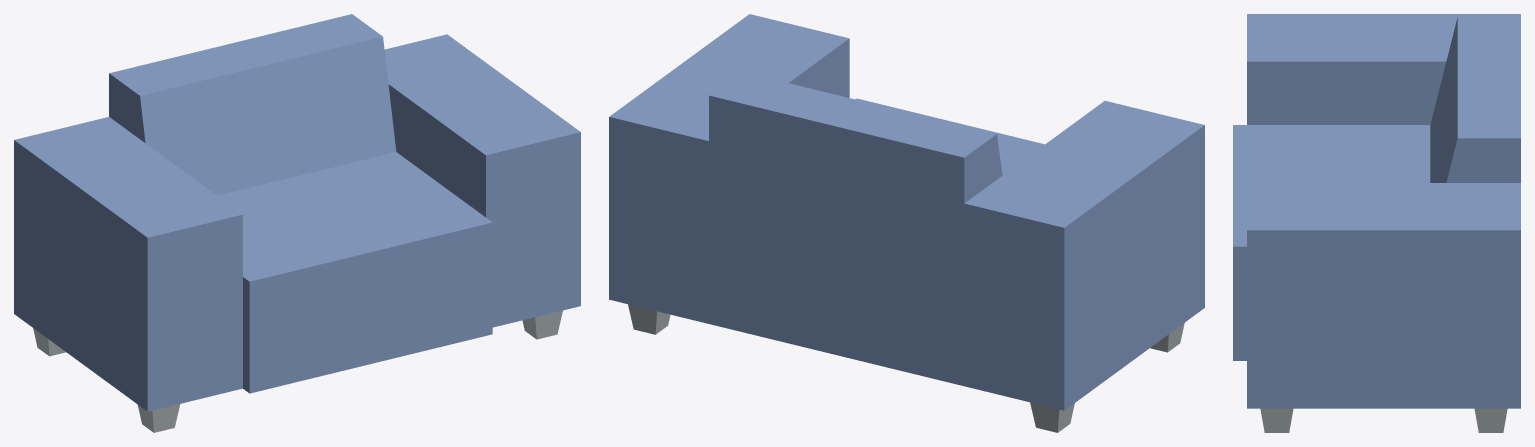
Rendered from loungeDesignChair.glb.
3 views of the same model, side by side, from view 1: azimuth 30°, elevation 25°; view 2: azimuth 150°, elevation 25°; view 3: azimuth 270°, elevation 25° (orthographic). The views are drawn at different scales.
Visible parts, largest first — view 1: loungeDesignChair; view 2: loungeDesignChair; view 3: loungeDesignChair.
Boxes of the visible parts, box(x1,y1,x2,y2) form: loungeDesignChair: box(14, 14, 580, 432); loungeDesignChair: box(609, 14, 1204, 432); loungeDesignChair: box(1233, 14, 1520, 432).
Bounding box in the file's own units: 0.7296 × 0.4 × 0.41.
